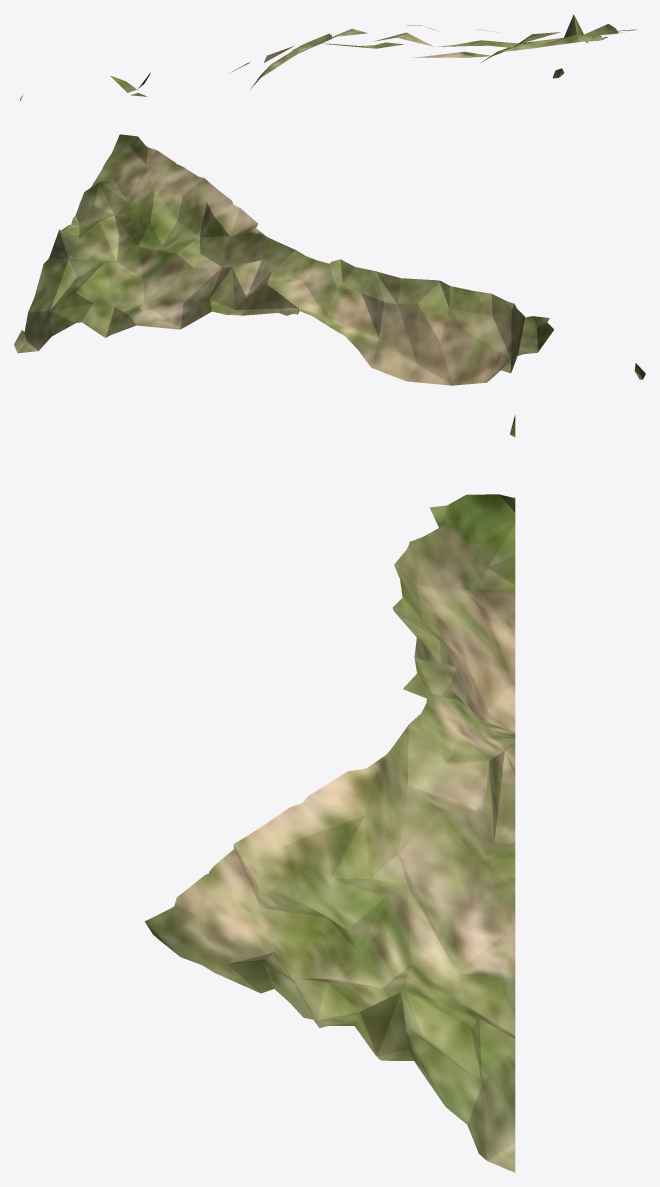
3 views of the same model, one above another, from view 1: azimuth 30°, elevation 25°; view 2: azimuth 150°, elevation 25°; view 3: azimuth 270°, elevation 25° (orthographic). The views are drawn at different scales.
Size of the model in its own units: 22.66 by 4.82 by 6.72.
Materials: 1 (1 with a texture image).
